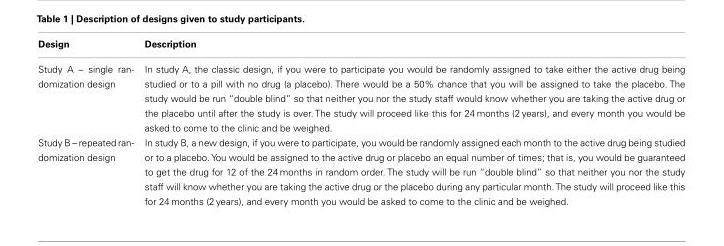table: (37, 37, 684, 206)
table column: (138, 37, 684, 206), (37, 37, 138, 206)
table column header: (37, 37, 684, 55)
table row: (37, 55, 684, 134), (37, 134, 684, 206), (37, 37, 684, 55)
